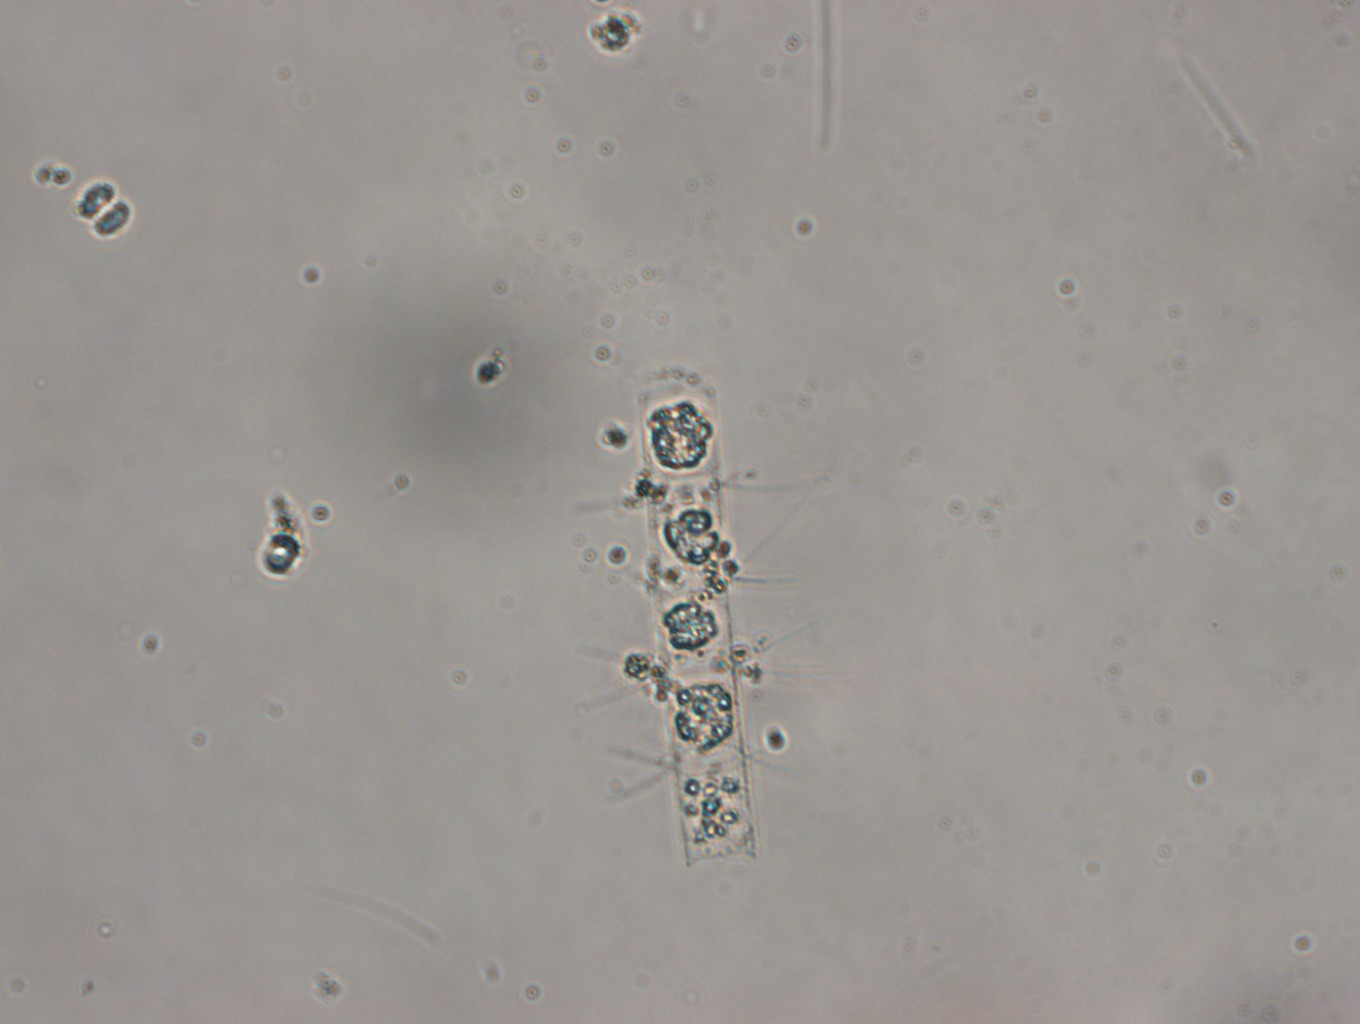chaetoceros: (563, 372, 838, 864)
